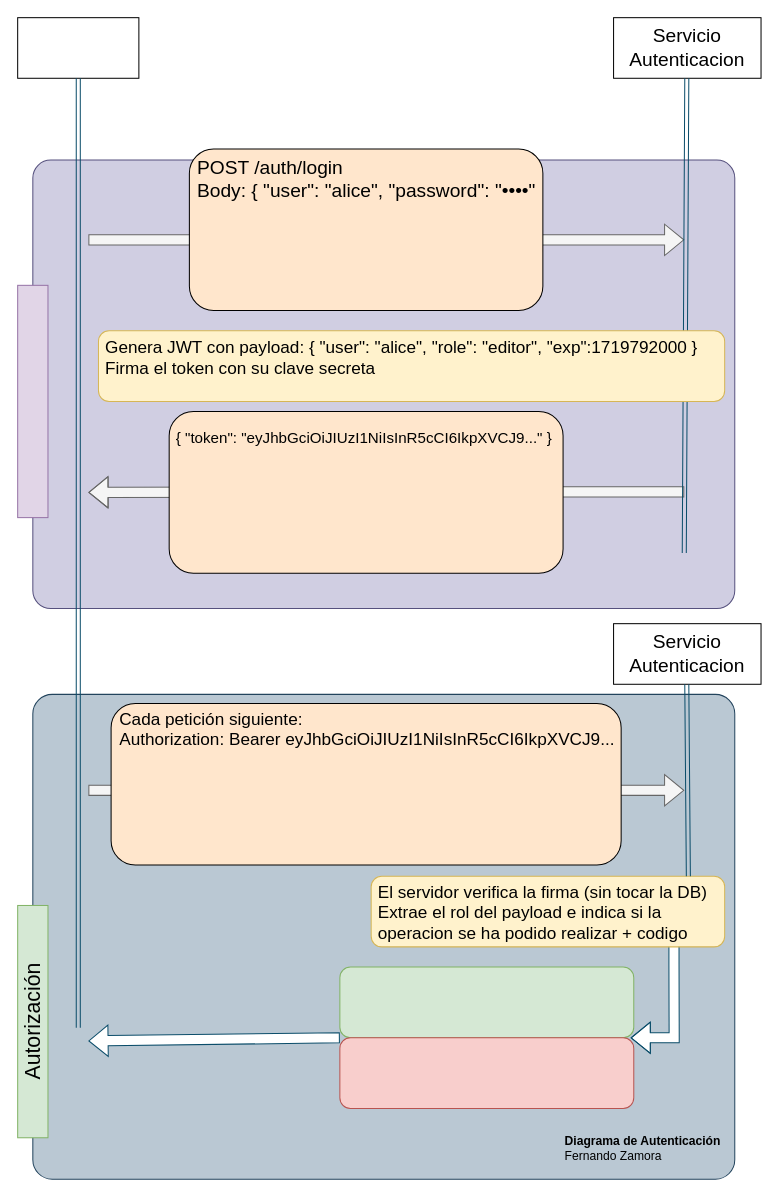
This 779x1197 diagram has some shape labels left out. Each missing label, with the centre of its shape:
"Autenticación" goes at pixel 32 401.
"Cliente" goes at pixel 78 47.
"Permiso NO OK: 40X" goes at pixel 486 1072.
"Permiso OK: 200 + Datos" goes at pixel 486 1002.
